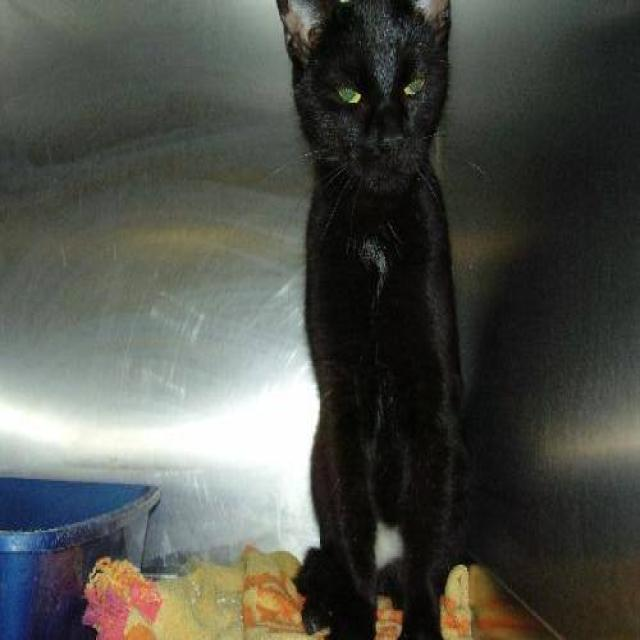cat: (271, 0, 474, 638)
